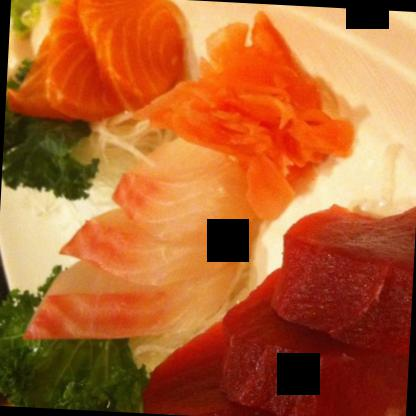salmon: (17, 0, 177, 124)
tuna: (139, 195, 415, 415)
